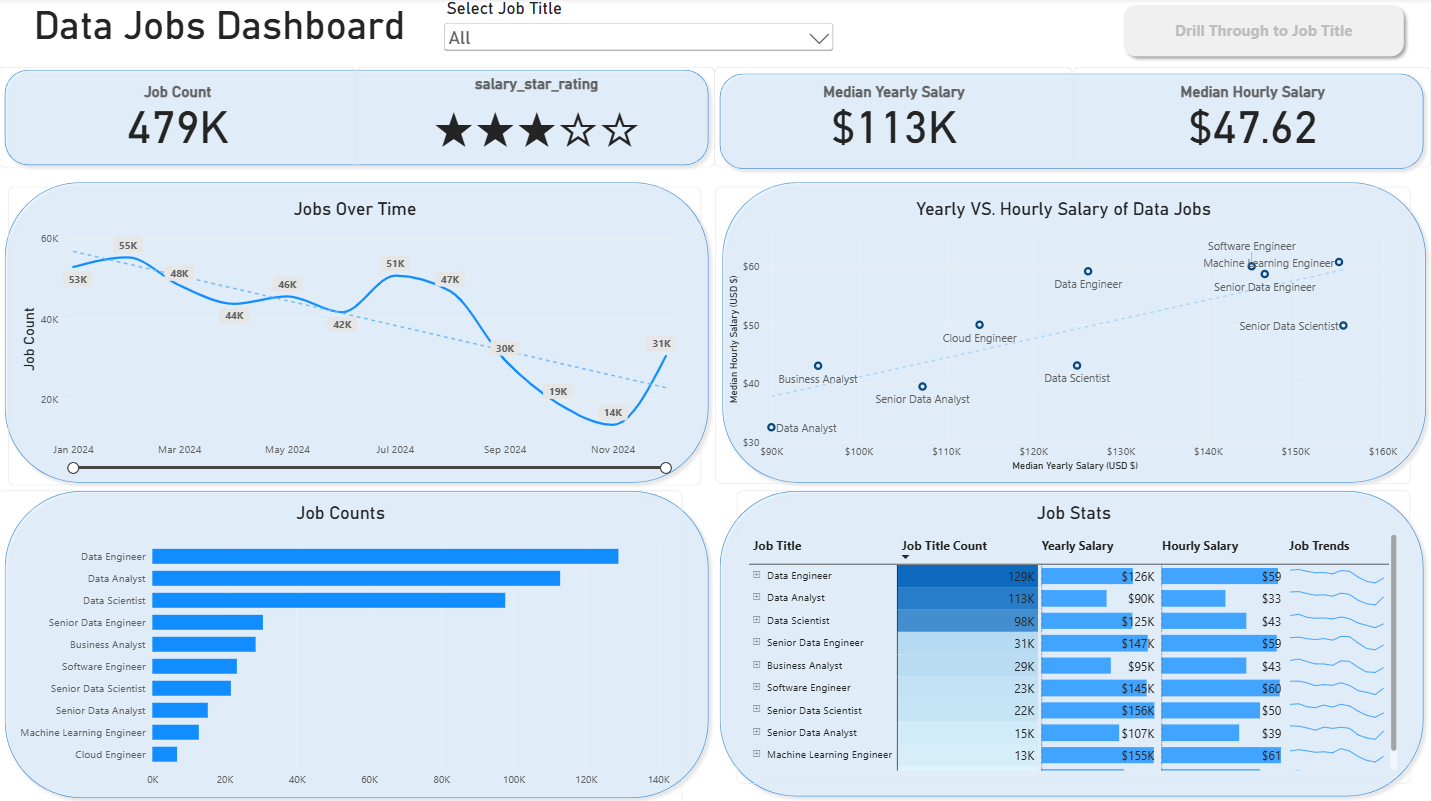

What the dashboard file says about the page in this screenshot:
{"tool":"powerbi","page":{"name":"Data Jobs Dashboard","canvas":[1920,1080],"ordinal":0},"visuals":[{"type":"group","id":"g1","title":"Background","box":[0,86.4,1922.2,994.3],"z":0},{"type":"shape","box":[958.9,90.8,961.1,146.2],"z":0,"group":"g1"},{"type":"shape","box":[0,86.4,961.1,146.2],"z":500,"group":"g1"},{"type":"textbox","box":[0,4.4,593.5,86.4],"z":1000},{"type":"shape","box":[0,237,961.1,420.8],"z":1000,"group":"g1"},{"type":"slicer","fields":{"Values":["job_postings_flat.job_title_short"]},"box":[593.5,0,531.5,86.4],"z":2000},{"type":"shape","box":[958.9,651.1,961.1,427.4],"z":2000,"group":"g1"},{"type":"cardVisual","fields":{"Data":["Median(job_postings_flat.salary_year_avg)"]},"box":[960.2,91.6,480.1,135.6],"z":3000},{"type":"shape","box":[961.1,237,961.1,420.8],"z":3000,"group":"g1"},{"type":"cardVisual","fields":{"Data":["Median(job_postings_flat.salary_hour_avg)"]},"box":[1440.3,91.6,480.1,135.6],"z":4000},{"type":"shape","box":[0,651.1,961.1,429.6],"z":4000,"group":"g1"},{"type":"cardVisual","fields":{"Data":["job_postings_flat.salary_star_rating"]},"box":[480.1,91.6,480.1,135.6],"z":5000},{"type":"cardVisual","fields":{"Data":["CountNonNull(job_postings_flat.job_title_short)"]},"box":[0,91.6,480.1,135.6],"z":6000},{"type":"lineChart","title":"Jobs Over Time","fields":{"Category":["job_postings_flat.job_posted_date.Variation.Date Hierarchy.Year","job_postings_flat.job_posted_date.Variation.Date Hierarchy.Quarter","job_postings_flat.job_posted_date.Variation.Date Hierarchy.Month","job_postings_flat.job_posted_date.Variation.Date Hierarchy.Day"],"Y":["CountNonNull(job_postings_flat.job_title_short)"]},"box":[13.3,252.1,928.7,399.9],"z":7000},{"type":"barChart","title":"Job Counts","fields":{"Category":["job_postings_flat.job_title_short"],"Y":["CountNonNull(job_postings_flat.job_title_short)"]},"box":[0,659.9,916.8,418.5],"z":8000},{"type":"pivotTable","title":"Job Stats","fields":{"Rows":["job_postings_flat.job_title_short","job_postings_flat.job_posted_date.Variation.Date Hierarchy.Quarter"],"Values":["CountNonNull(job_postings_flat.job_title_short)","Median(job_postings_flat.salary_year_avg)","Median(job_postings_flat.salary_hour_avg)","SparklineData(CountNonNull(job_postings_flat.job_title_short)_[job_postings_flat.job_posted_date.Variation.Date Hierarch"]},"box":[990.6,659.2,902.4,392.6],"z":9000},{"type":"scatterChart","title":"Yearly VS. Hourly Salary of Data Jobs","fields":{"Series":["job_postings_flat.job_title_short"],"X":["Median(job_postings_flat.salary_year_avg)"],"Y":["Median(job_postings_flat.salary_hour_avg)"]},"box":[961.8,252.2,931.2,398],"z":10000},{"type":"actionButton","box":[1499.1,0,393.6,87.1],"z":11000}]}

Visuals, with their boxes in screenshot pixels (x1, y1, x2, y2), scaled from the page's 1920x1080 canvas onto the 1432x801 screenshot:
"Background" group: 0:64:1431:800
shape: 715:67:1431:176
shape: 0:64:717:173
textbox: 0:3:443:67
shape: 0:176:717:488
slicer - job_postings_flat.job_title_short: 443:0:839:64
shape: 715:483:1431:800
cardVisual - Median(job_postings_flat.salary_year_avg): 716:68:1074:169
shape: 717:176:1431:488
cardVisual - Median(job_postings_flat.salary_hour_avg): 1074:68:1431:169
shape: 0:483:717:800
cardVisual - job_postings_flat.salary_star_rating: 358:68:716:169
cardVisual - CountNonNull(job_postings_flat.job_title_short): 0:68:358:169
"Jobs Over Time" lineChart: 10:187:703:484
"Job Counts" barChart: 0:489:684:800
"Job Stats" pivotTable: 739:489:1412:780
"Yearly VS. Hourly Salary of Data Jobs" scatterChart: 717:187:1412:482
actionButton: 1118:0:1412:65
